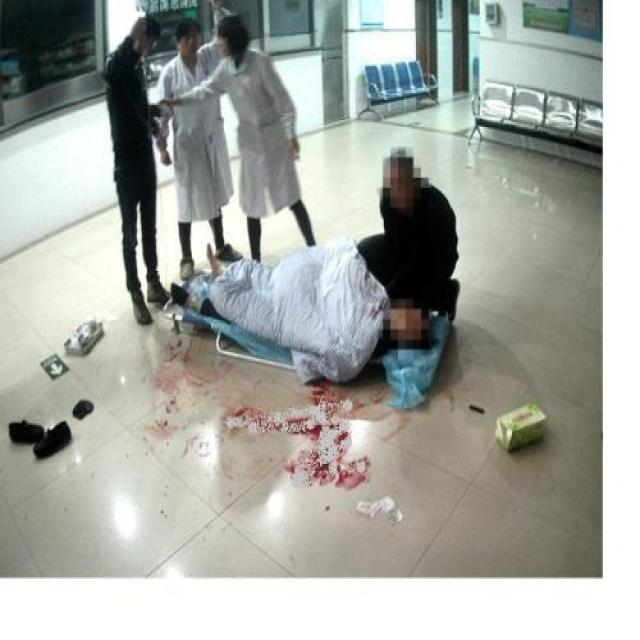fall: (169, 223, 449, 394)
